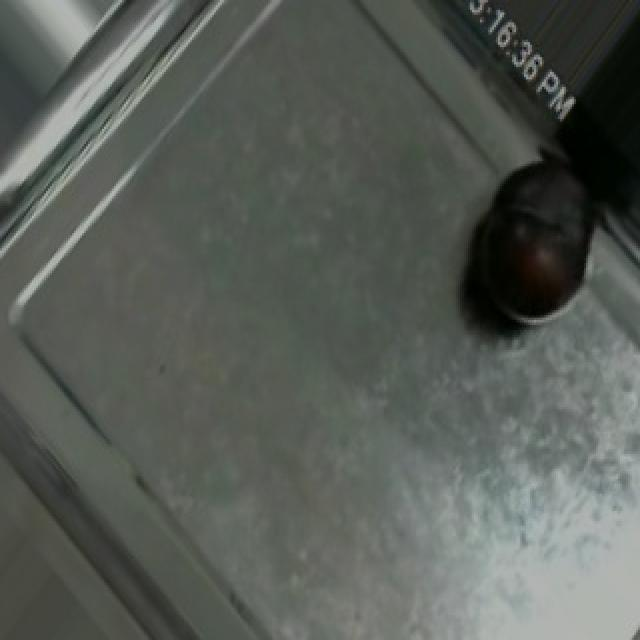Fruit: (450, 139, 624, 342)
